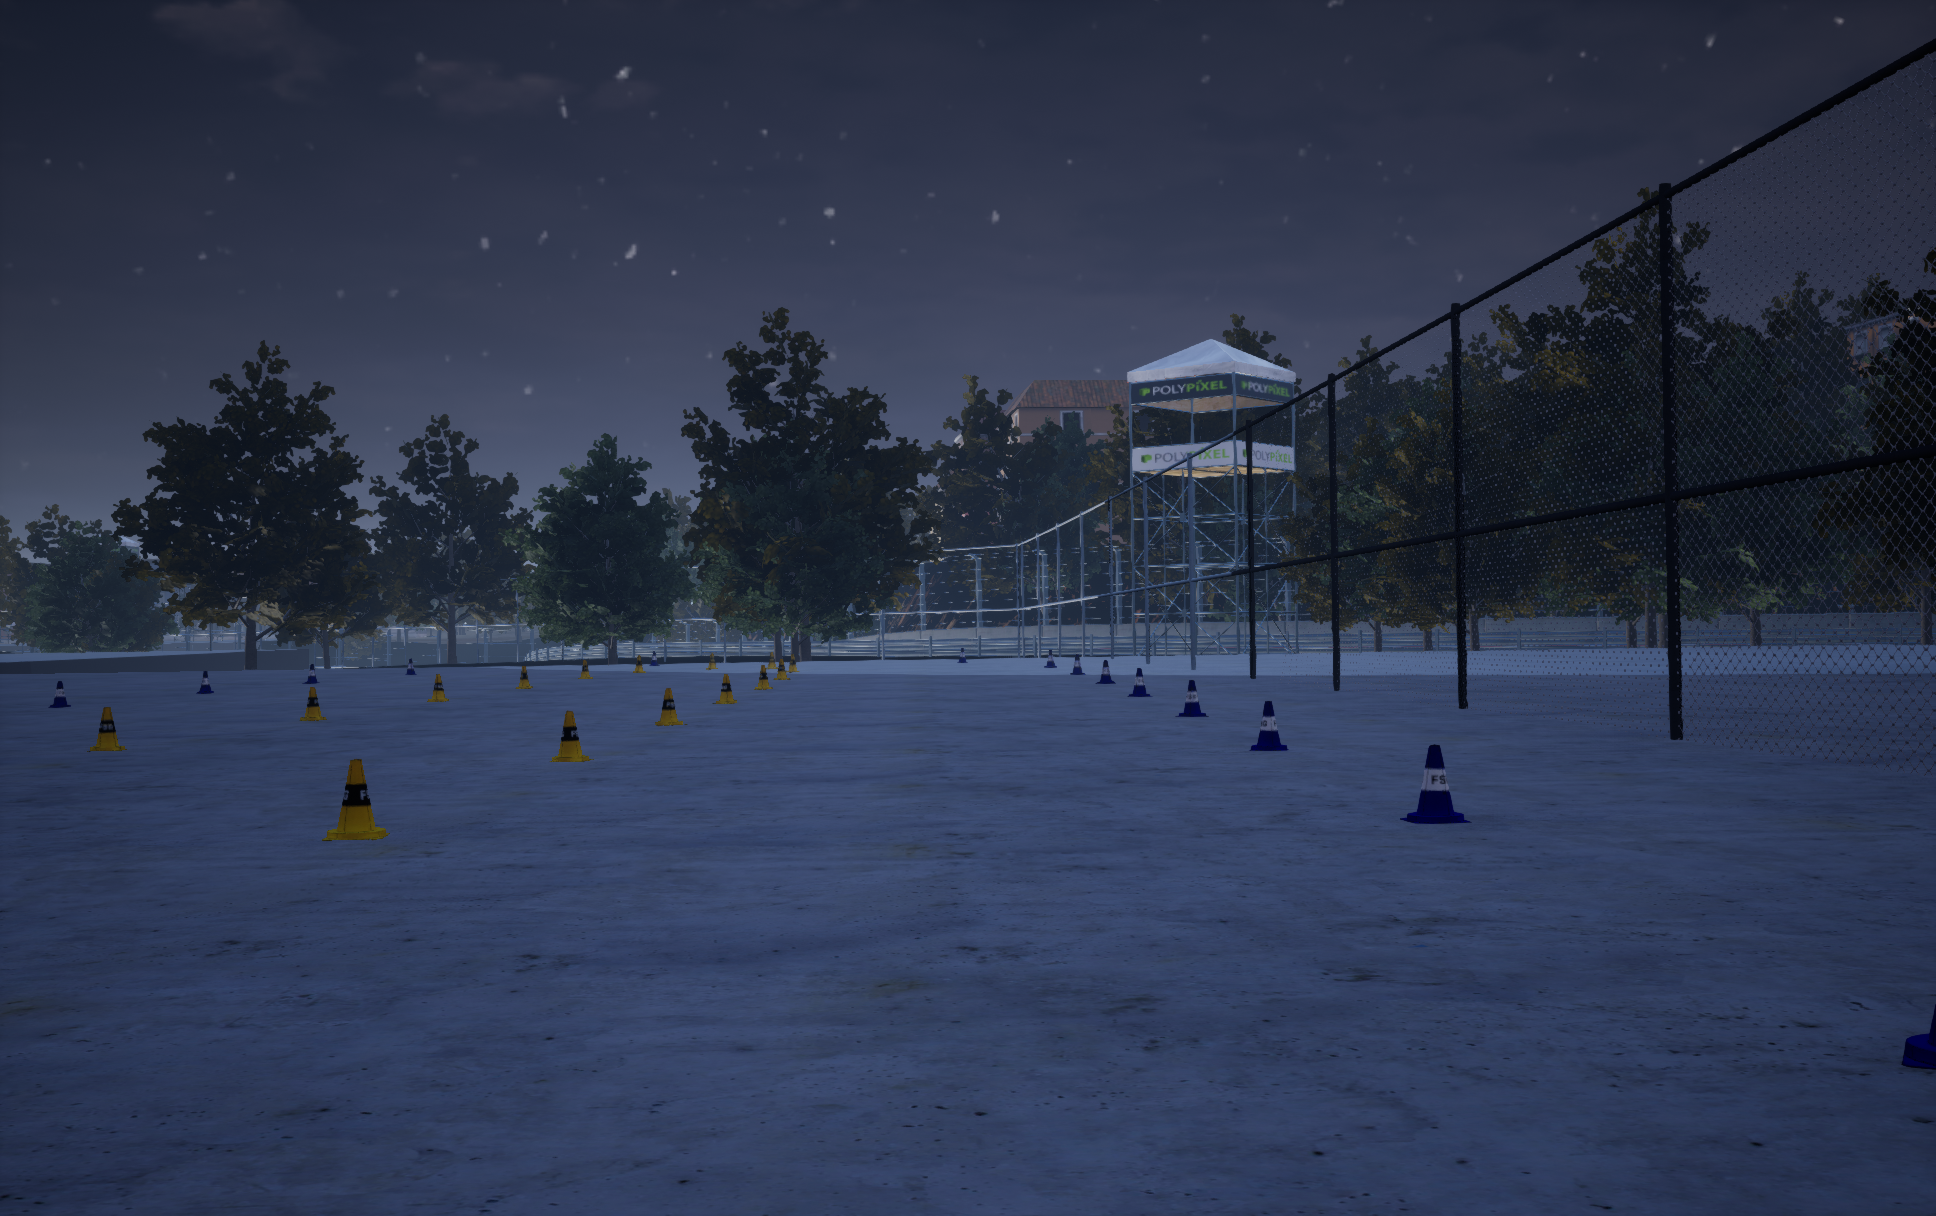blue: (322, 759, 389, 841), (549, 712, 593, 761), (87, 707, 126, 751), (656, 688, 686, 726), (298, 686, 326, 720), (712, 674, 735, 703), (427, 674, 448, 700), (754, 665, 772, 689), (516, 665, 532, 688), (773, 658, 790, 679), (579, 660, 593, 678), (786, 654, 798, 672)
yellow: (1399, 744, 1471, 822), (1901, 1004, 1935, 1069), (1250, 700, 1287, 749), (1175, 679, 1208, 716), (1128, 668, 1152, 696), (48, 681, 70, 707), (1095, 660, 1115, 684), (196, 671, 213, 693), (303, 664, 319, 684), (1070, 654, 1086, 674), (1044, 650, 1056, 667)
